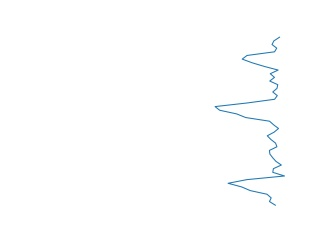underwaterNaturalLevee: (213, 34, 287, 207)
